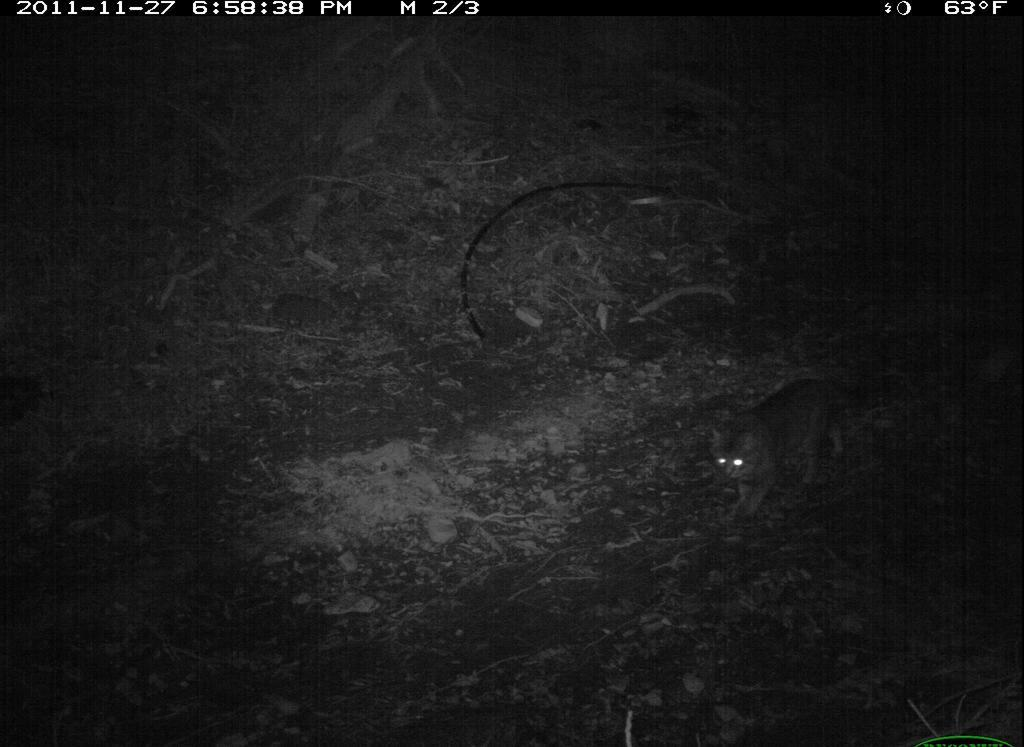cat: (708, 369, 879, 518)
